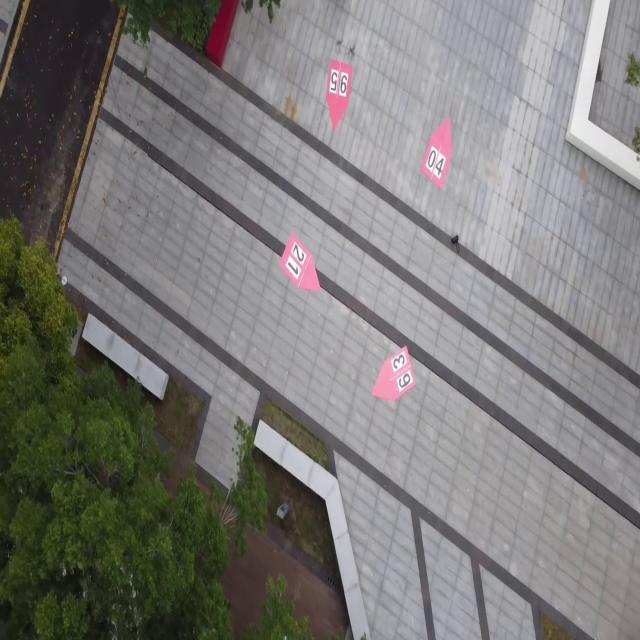-sign-: (279, 230, 321, 294), (372, 345, 417, 403), (422, 117, 454, 190), (326, 58, 353, 131)
